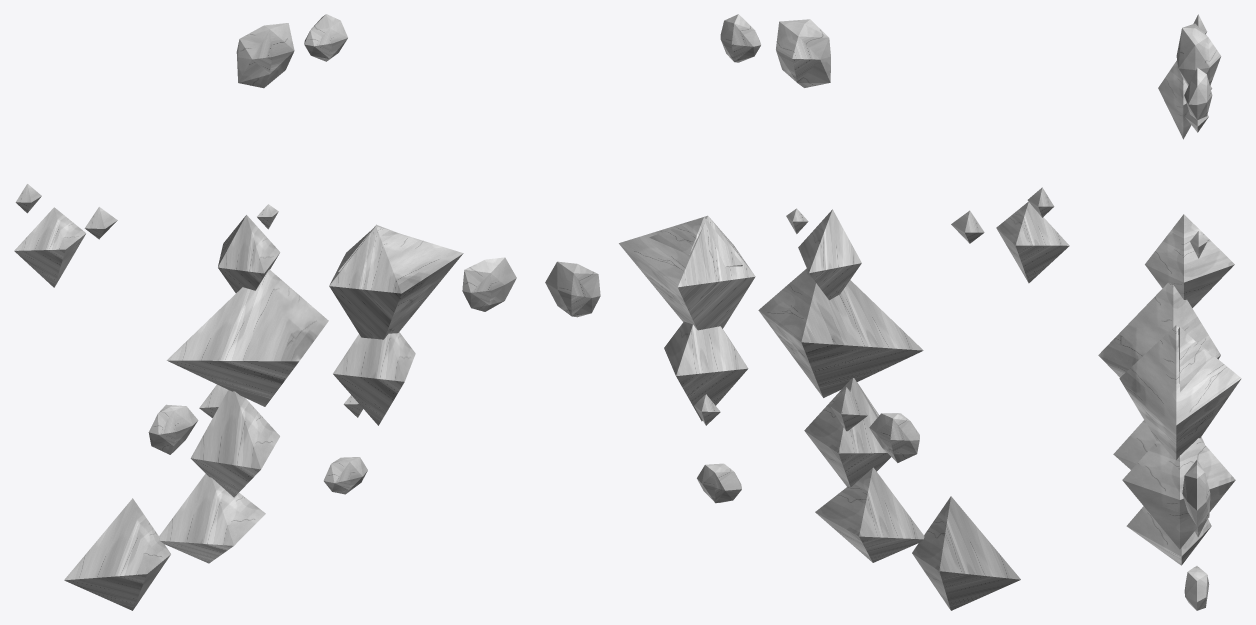
The model's file is SM_Rocks_Rubble.obj.
3 renders of one model, left to right at view 1: azimuth 30°, elevation 25°; view 2: azimuth 150°, elevation 25°; view 3: azimuth 270°, elevation 25°, orthographic. The views are drawn at different scales.
Parts seen in each view (by area): view 1: SM_Rocks_Rubble; view 2: SM_Rocks_Rubble; view 3: SM_Rocks_Rubble.
Boxes of the visible parts, bbox=[...] form: SM_Rocks_Rubble: bbox=[14, 14, 516, 610]; SM_Rocks_Rubble: bbox=[545, 14, 1069, 610]; SM_Rocks_Rubble: bbox=[1098, 14, 1241, 610].
Size of the model in its own units: 132 by 136 by 29.29.
4 materials, 4 textured.
